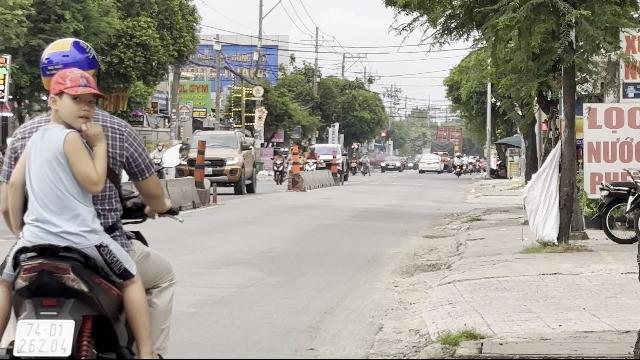helmet: (36, 36, 104, 84)
licenseplate: (13, 318, 72, 354)
motorcyclist: (0, 35, 184, 356)
nohelmet: (46, 69, 106, 131)
